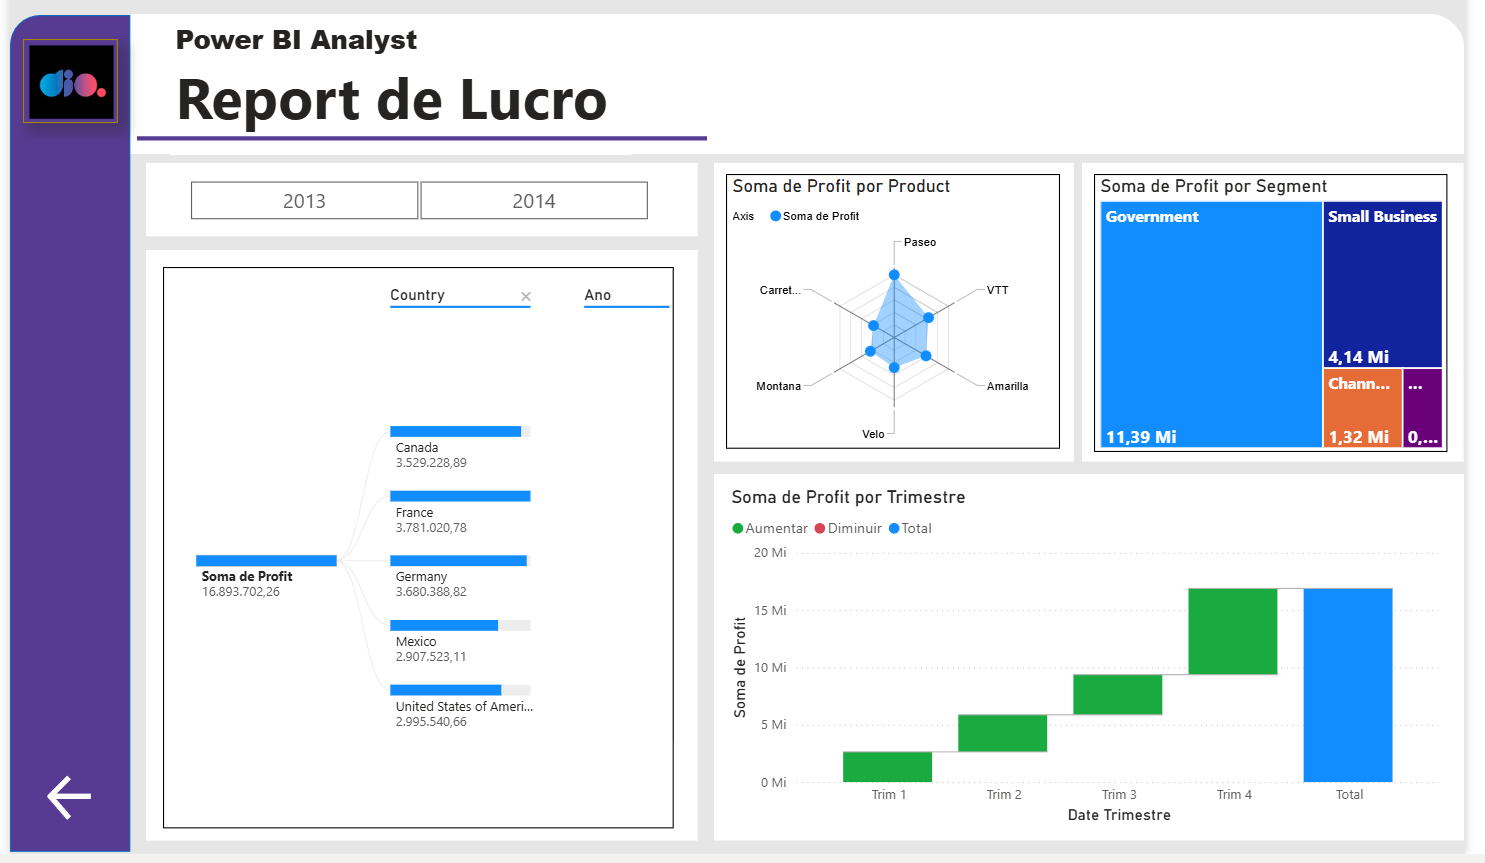

This screenshot's page, from the dashboard's own definition file:
{"tool":"powerbi","page":{"name":"Report Lucro","canvas":[1350,800],"ordinal":1},"visuals":[{"type":"actionButton","box":[995.3,159.1,354.3,277.2],"z":0},{"type":"actionButton","box":[653.5,159.1,333.9,277.2],"z":1000},{"type":"actionButton","box":[126,239.4,511.8,548],"z":2000},{"type":"shape","box":[111.7,20,1238.3,130],"z":3000},{"type":"shape","box":[0,21.7,111.7,776.7],"z":4000},{"type":"image","box":[11.7,43.3,88.3,78.3],"z":5000},{"type":"textbox","box":[148,22,428.3,129.1],"z":6000},{"type":"shape","box":[118.1,107.1,529.1,58.3],"z":7000},{"type":"actionButton","box":[30.4,720,51.2,56],"z":8000},{"type":"actionButton","box":[126,159.1,511.8,67.7],"z":9000},{"type":"slicer","fields":{"Values":["financials.Date.Variation.Hierarquia de datas.Ano"]},"box":[141.7,168.5,474,48.8],"z":10000},{"type":"decompositionTreeVisual","fields":{"ExplainBy":["financials.Country","financials.Date.Variation.Hierarquia de datas.Ano","financials.Date.Variation.Hierarquia de datas.Mês"],"Analyze":["Sum(financials.Profit)"]},"box":[141.7,255.1,474,521.3],"z":11000},{"type":"RadarChart1446119667547","fields":{"Y":["Sum(financials.Profit)"],"Category":["financials.Product"]},"box":[664.6,168.5,310.2,255.1],"z":12000},{"type":"treemap","fields":{"Values":["Sum(financials.Profit)"],"Group":["financials.Segment"]},"box":[1006.3,168.5,327.6,258.3],"z":13000},{"type":"actionButton","box":[653.5,447.2,696.1,340.2],"z":14000},{"type":"waterfallChart","fields":{"Category":["financials.Date.Variation.Hierarquia de datas.Trimestre"],"Y":["Sum(financials.Profit)"]},"box":[664.6,458.3,669.3,318.1],"z":15000}]}

Visuals, with their boxes in screenshot pixels (x1, y1, x2, y2), scaled from the page's 1350x800 canvas onto the 1485x863 screenshot:
actionButton: 1095:172:1484:471
actionButton: 719:172:1086:471
actionButton: 139:258:702:849
shape: 123:22:1484:162
shape: 0:23:123:861
image: 13:47:110:131
textbox: 163:24:634:163
shape: 130:116:712:178
actionButton: 33:777:90:837
actionButton: 139:172:702:245
slicer - financials.Date.Variation.Hierarquia de datas.Ano: 156:182:677:234
decompositionTreeVisual - financials.Country x financials.Date.Variation.Hierarquia de datas.Ano: 156:275:677:838
RadarChart1446119667547 - Sum(financials.Profit) x financials.Product: 731:182:1072:457
treemap - Sum(financials.Profit) x financials.Segment: 1107:182:1467:460
actionButton: 719:482:1484:849
waterfallChart - financials.Date.Variation.Hierarquia de datas.Trimestre x Sum(financials.Profit): 731:494:1467:838
